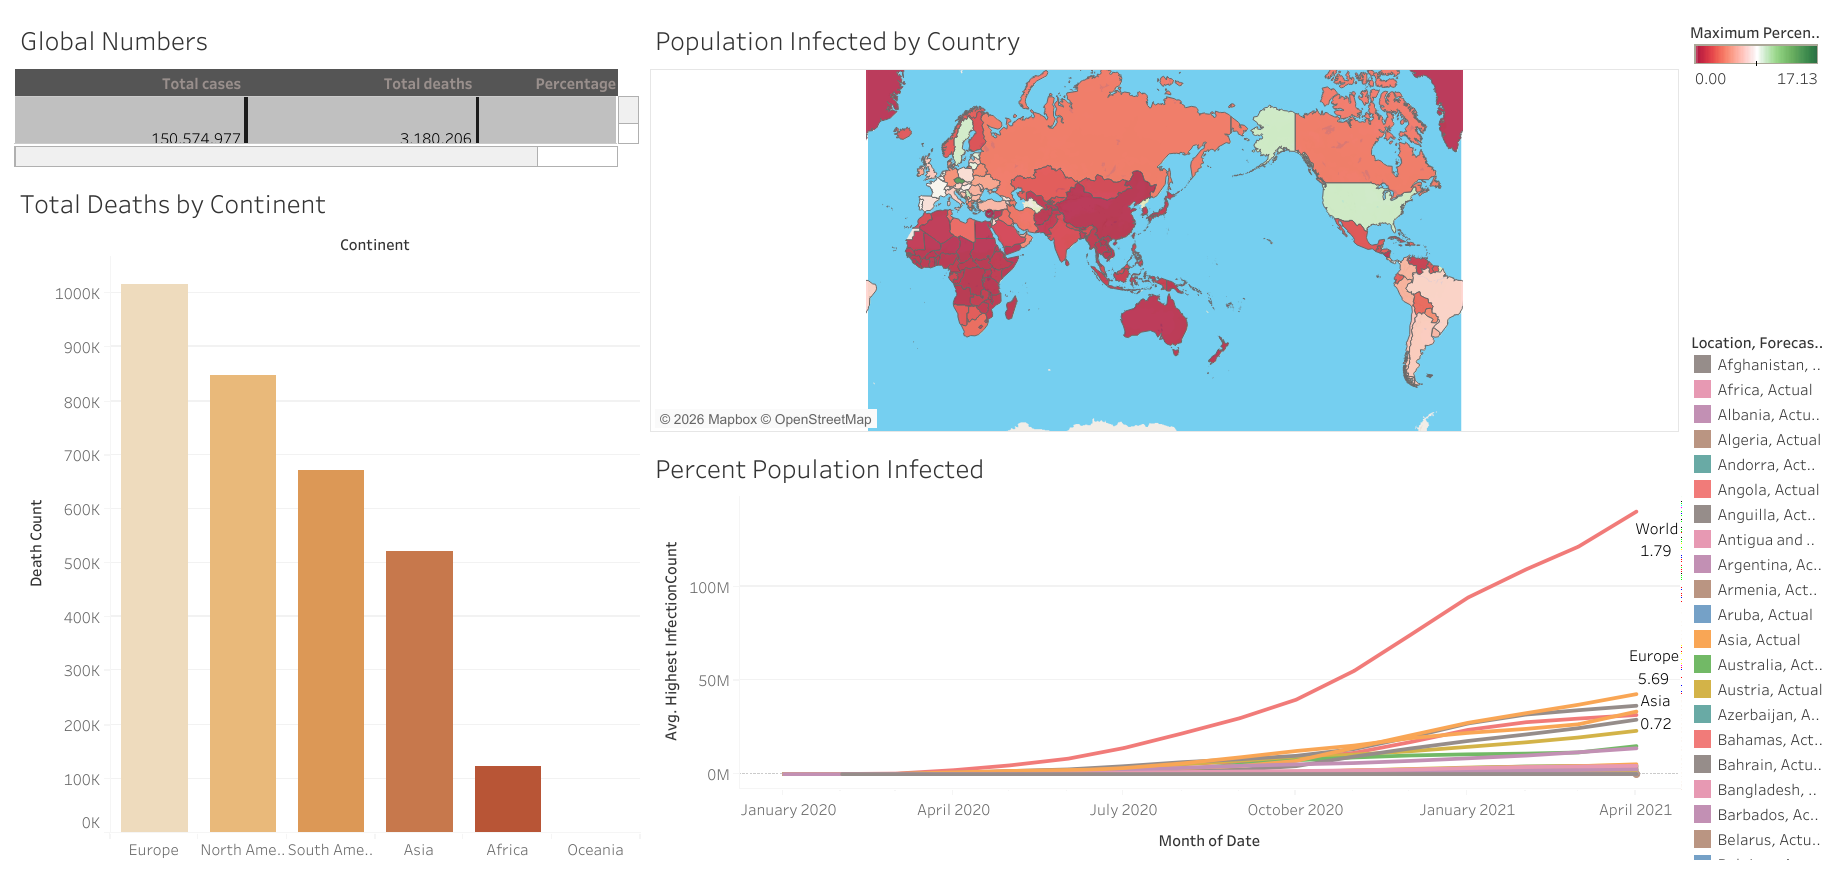

Layout of this report page (visuals, bound fields, positions):
{"tool":"tableau","page":{"name":"Dashboard 1","canvas":[1000,1000],"units":"permille","ordinal":0},"visuals":[{"type":"worksheet","title":"Sheet 1","mark":"Automatic","box":[4.9,8.2,345.6,187.4]},{"type":"worksheet","title":"Sheet 3","mark":"Automatic","box":[350.6,8.2,566.2,491.7]},{"type":"legend","title":"Sheet 3","param":"[federated.0wqf48d0p4vx8q14nifz50ka96zy].[sum:Maximum_Percent_Affected:qk]","box":[916.8,8.2,78.3,359.4]},{"type":"worksheet","title":"Sheet 2","mark":"Automatic","rows":["Death_Count"],"cols":["Location"],"box":[4.9,195.6,345.6,796.1]},{"type":"legend","title":"Sheet 4","param":"[federated.15wlhaw0ut2k4015m69p10e9pzn8].[none:Location:nk]\n[federated.15wlhaw0u","box":[916.8,367.6,78.3,624.1]},{"type":"worksheet","title":"Sheet 4","mark":"Automatic","rows":["Highest_InfectionCount"],"cols":["date"],"box":[350.6,500,566.2,491.8]}]}

Visuals, with their boxes on the dashboard's canvas, which has no fixed pixel size, in thousandths of its width and height (x1, y1, x2, y2). These are canvas units, not pixel positions in the 1838x874 screenshot, which may show the page scaled, cropped or inside an application window:
"Sheet 1" worksheet: (5, 8, 350, 196)
"Sheet 3" worksheet: (351, 8, 917, 500)
"Sheet 3" legend: (917, 8, 995, 368)
"Sheet 2" worksheet: (5, 196, 350, 992)
"Sheet 4" legend: (917, 368, 995, 992)
"Sheet 4" worksheet: (351, 500, 917, 992)
